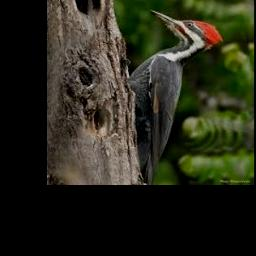Woodpecker: (127, 10, 223, 185)
